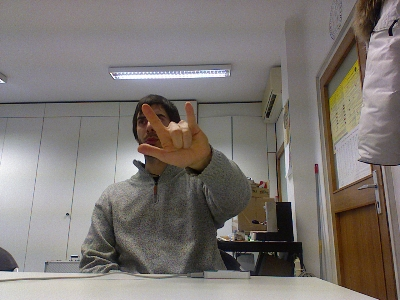我爱你: (135, 98, 212, 170)
